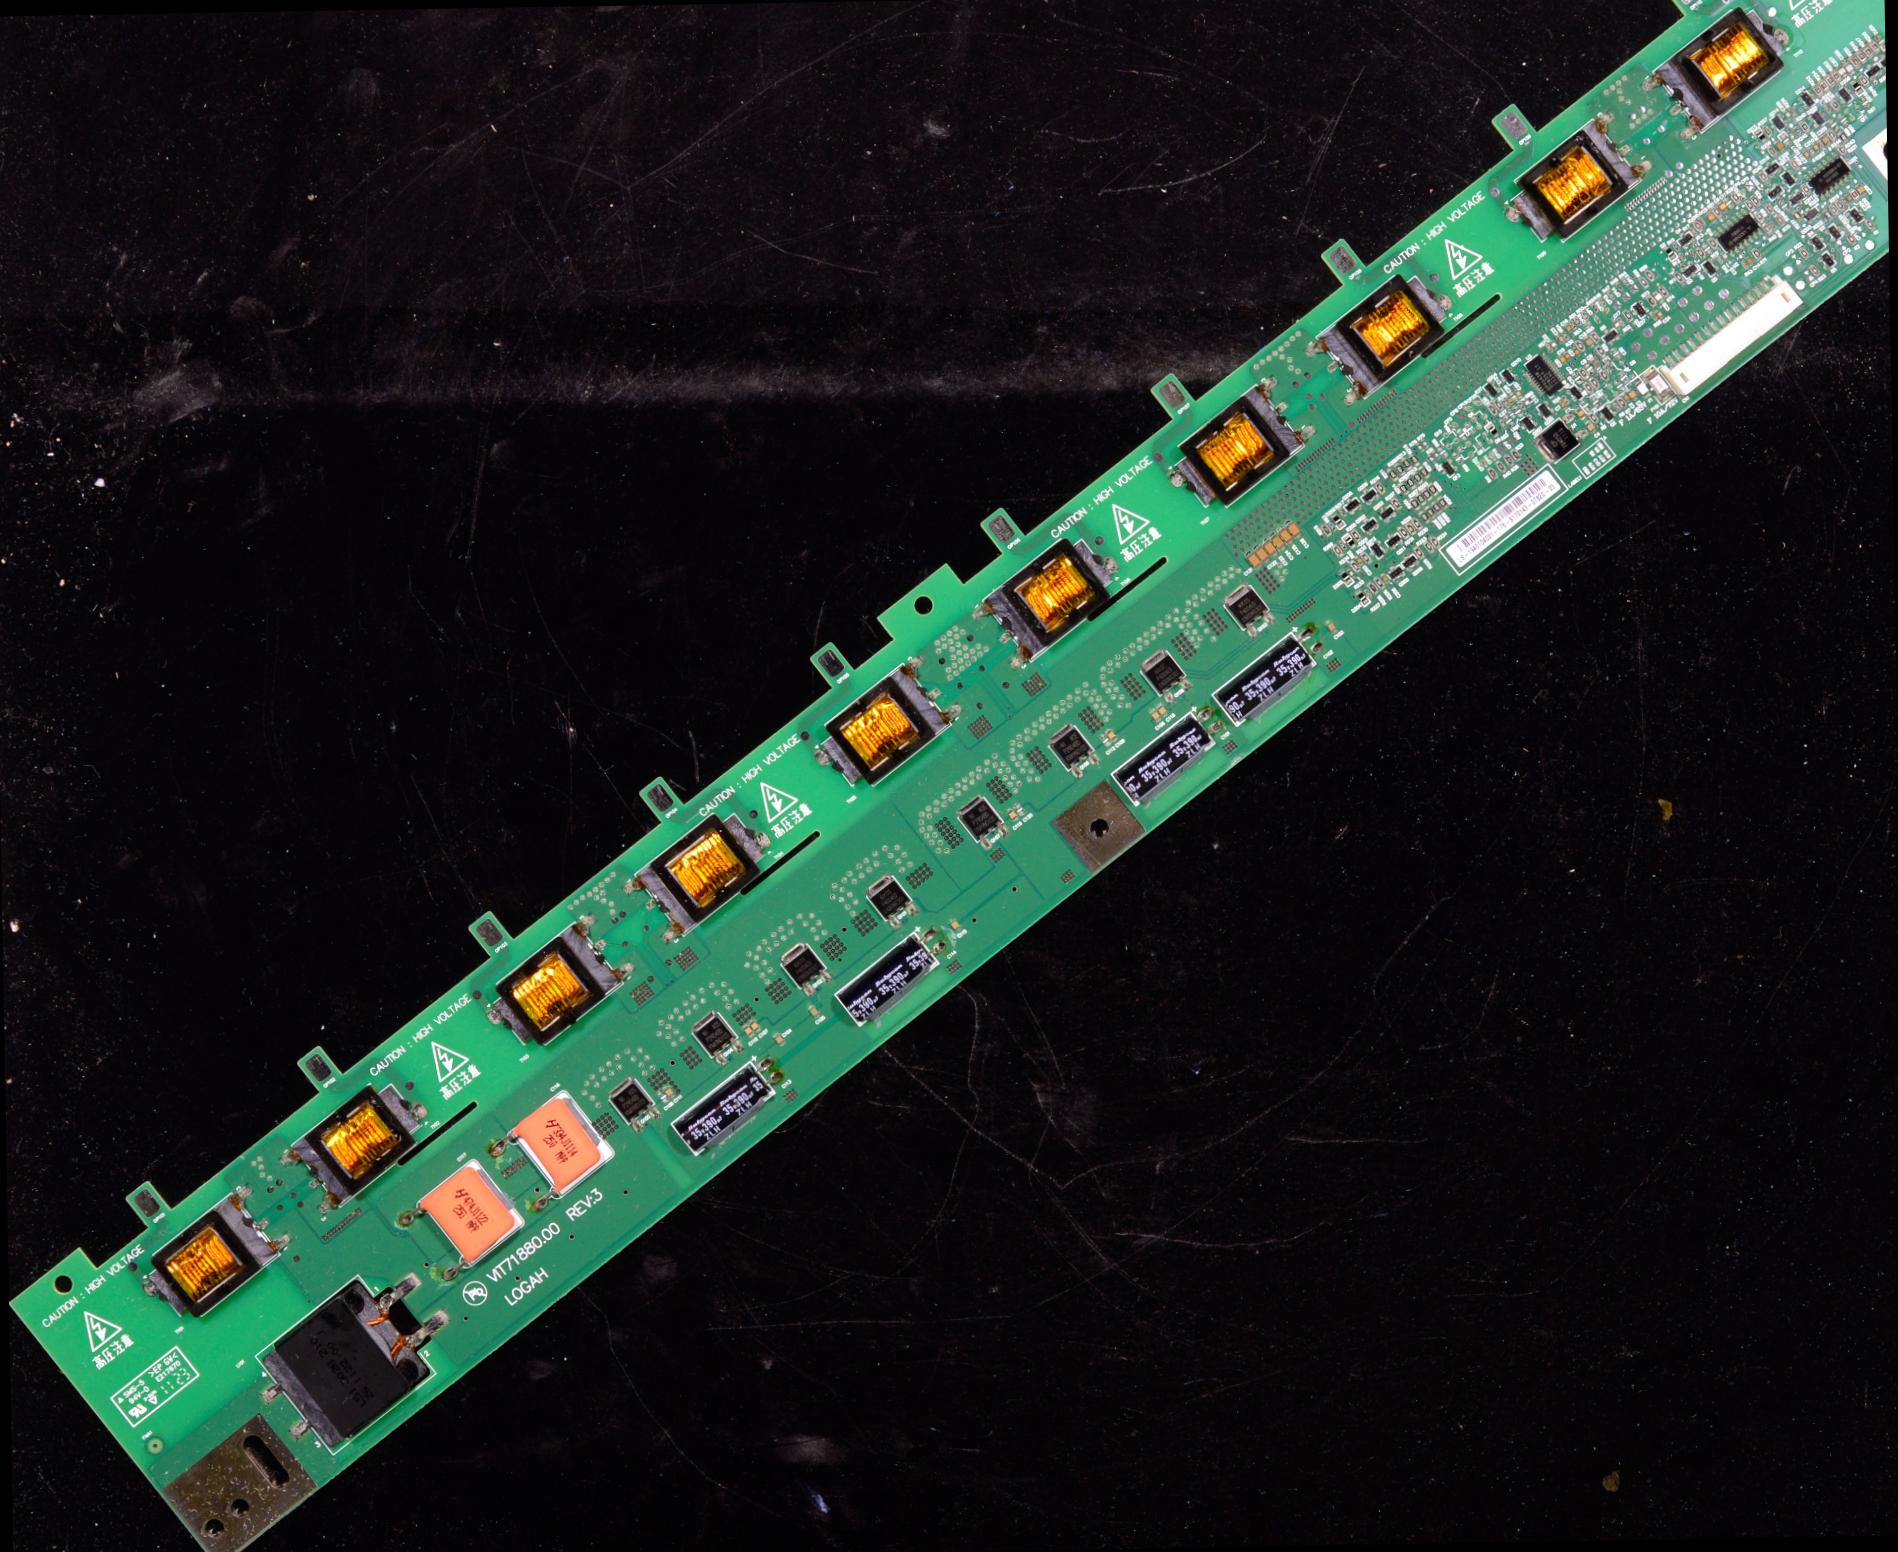Capacitor Jumper: (498, 1076, 635, 1204), (402, 1153, 533, 1264), (941, 919, 973, 938), (1319, 619, 1348, 638), (1154, 698, 1174, 723), (746, 1015, 765, 1040), (801, 1005, 826, 1023), (1003, 810, 1026, 827), (1096, 731, 1115, 750), (769, 1034, 791, 1049), (664, 1081, 678, 1105), (1012, 800, 1033, 816), (1144, 709, 1162, 725), (741, 1024, 758, 1040), (654, 1092, 672, 1108), (1107, 723, 1119, 744), (1714, 199, 1731, 213), (1852, 184, 1873, 195), (1833, 65, 1849, 79), (1573, 405, 1587, 419), (1841, 61, 1857, 74), (1703, 211, 1718, 224), (1583, 422, 1600, 433), (1625, 389, 1643, 400), (1610, 318, 1624, 331), (1589, 356, 1603, 369), (1654, 309, 1669, 320), (1770, 142, 1788, 151), (1621, 310, 1635, 321), (1554, 334, 1569, 345), (1546, 339, 1561, 350), (1572, 340, 1586, 351), (1819, 134, 1832, 145), (1621, 394, 1635, 403), (1557, 400, 1570, 410), (1583, 364, 1597, 372), (1781, 110, 1792, 120), (1562, 325, 1573, 334), (1583, 337, 1594, 347), (1800, 151, 1813, 159), (1561, 353, 1573, 361), (1513, 391, 1526, 399), (1570, 348, 1581, 356), (1557, 356, 1569, 364), (1810, 145, 1821, 151), (1504, 397, 1515, 403), (1846, 194, 1854, 202)
IC: (1535, 413, 1583, 462), (1800, 158, 1857, 194), (1712, 213, 1767, 249), (1521, 351, 1562, 392)
Resistor Jumper: (1507, 449, 1532, 462), (1792, 244, 1811, 260), (1370, 578, 1390, 591), (1428, 533, 1442, 550), (1668, 273, 1687, 285), (1356, 551, 1376, 563), (1863, 219, 1879, 233), (1501, 455, 1518, 468), (1430, 503, 1447, 515), (1395, 528, 1412, 540), (1748, 249, 1766, 262), (1491, 463, 1510, 474), (1401, 525, 1420, 536), (1327, 547, 1346, 558), (1573, 369, 1592, 380), (1866, 41, 1881, 55), (1334, 506, 1349, 518), (1346, 561, 1362, 574), (1691, 217, 1704, 233), (1644, 295, 1660, 307), (1586, 301, 1602, 314), (1406, 518, 1423, 529), (1316, 526, 1334, 537), (1420, 542, 1438, 553), (1709, 206, 1726, 217), (1657, 285, 1674, 296), (1603, 290, 1621, 301), (1371, 482, 1386, 495), (1412, 548, 1427, 561), (1848, 57, 1862, 69), (1838, 131, 1852, 143), (1636, 276, 1651, 288), (1490, 399, 1504, 411), (1587, 413, 1603, 424), (1436, 498, 1452, 509), (1416, 512, 1431, 523), (1797, 123, 1813, 134), (1848, 189, 1863, 200), (1728, 192, 1744, 203), (1748, 195, 1764, 206), (1832, 200, 1848, 211), (1665, 252, 1680, 263), (1643, 269, 1658, 280), (1485, 405, 1501, 416), (1390, 465, 1408, 474), (1427, 485, 1444, 495), (1387, 499, 1405, 509), (1422, 509, 1439, 518), (1740, 200, 1758, 210), (1431, 449, 1444, 462), (1814, 77, 1827, 90), (1764, 202, 1777, 214), (1420, 435, 1431, 449), (1400, 459, 1414, 470), (1485, 470, 1499, 481), (1405, 479, 1419, 490), (1395, 484, 1409, 495), (1852, 50, 1866, 61), (1822, 76, 1837, 87), (1756, 172, 1770, 183), (1800, 183, 1814, 194), (1827, 205, 1841, 216), (1759, 224, 1773, 235), (1844, 235, 1859, 246), (1594, 298, 1608, 309), (1598, 369, 1613, 380), (1581, 383, 1595, 394), (1614, 397, 1628, 408), (1408, 454, 1423, 463), (1417, 466, 1433, 476), (1365, 585, 1381, 594), (1825, 99, 1841, 109), (1807, 266, 1822, 276), (1587, 378, 1603, 388), (1830, 71, 1843, 82), (1811, 84, 1822, 96), (1761, 126, 1773, 137), (1412, 444, 1427, 454), (1412, 474, 1427, 484), (1414, 495, 1428, 504), (1860, 47, 1874, 57), (1764, 147, 1778, 156), (1617, 276, 1632, 285), (1594, 348, 1608, 358), (1753, 214, 1769, 222), (1575, 312, 1591, 320), (1789, 158, 1800, 169), (1821, 208, 1832, 219), (1696, 216, 1707, 227), (1739, 260, 1750, 271), (1409, 499, 1422, 509), (1351, 531, 1364, 540), (1695, 247, 1707, 257), (1613, 282, 1625, 291), (1570, 317, 1583, 326), (1614, 317, 1627, 326), (1611, 402, 1624, 411), (1420, 492, 1435, 499), (1835, 147, 1849, 154), (1772, 216, 1786, 224), (1788, 107, 1799, 117), (1840, 197, 1851, 206), (1688, 227, 1699, 236), (1712, 255, 1723, 265), (1386, 471, 1398, 479), (1857, 77, 1870, 85), (1669, 243, 1682, 251), (1427, 455, 1438, 463), (1707, 239, 1718, 247), (1677, 254, 1688, 262), (1589, 332, 1600, 340), (1792, 128, 1802, 136), (1786, 131, 1796, 137)
Transistor: (1039, 711, 1102, 777), (766, 941, 832, 993), (1127, 651, 1192, 703), (1212, 581, 1275, 633), (605, 1068, 659, 1128), (856, 873, 916, 925), (689, 1012, 746, 1064), (946, 794, 1006, 843), (1476, 380, 1507, 399), (1838, 101, 1866, 121), (1595, 328, 1625, 347), (1381, 564, 1409, 583), (1676, 262, 1704, 280), (1400, 553, 1427, 572), (1698, 260, 1725, 279), (1494, 366, 1521, 384), (1356, 515, 1379, 536), (1435, 459, 1460, 477), (1627, 299, 1652, 318), (1594, 407, 1621, 424), (1435, 432, 1461, 449), (1354, 487, 1381, 504), (1381, 533, 1406, 550), (1342, 493, 1360, 515), (1767, 113, 1791, 131), (1532, 403, 1557, 419), (1564, 386, 1589, 400), (1517, 416, 1539, 432), (1373, 506, 1395, 520), (1365, 544, 1387, 558)
